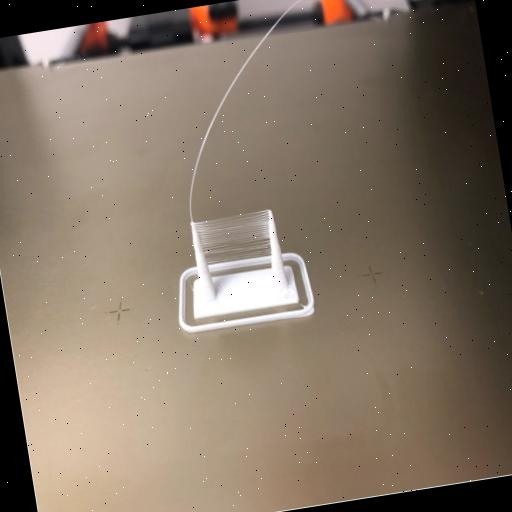stringing: (195, 208, 270, 265)
